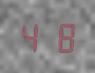eight: (47, 20, 74, 53)
four: (19, 20, 46, 53)
